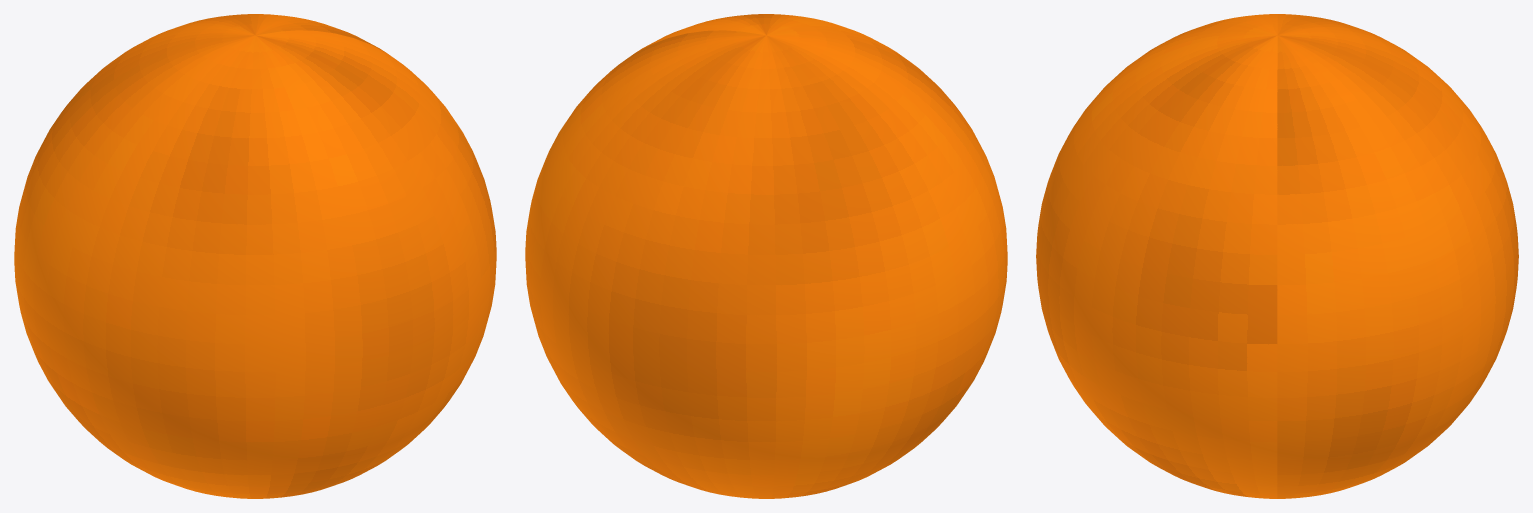
File: skybox_firepit.glb
3 renders of one model, left to right at view 1: azimuth 30°, elevation 25°; view 2: azimuth 150°, elevation 25°; view 3: azimuth 270°, elevation 25°, orthographic.
Parts seen in each view (by area): view 1: Skybox; view 2: Skybox; view 3: Skybox.
Boxes of the visible parts, x1,y1,x2,y2 form: Skybox: [14, 14, 496, 498]; Skybox: [525, 14, 1007, 498]; Skybox: [1036, 14, 1518, 498].
Size of the model in its own units: 4950 by 5002 by 4950.
5 materials, 5 textured.
